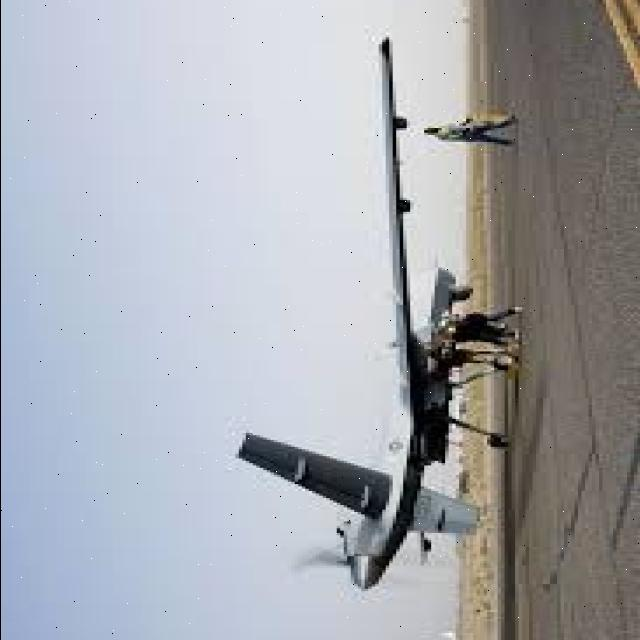MQ9: (200, 12, 520, 614)
